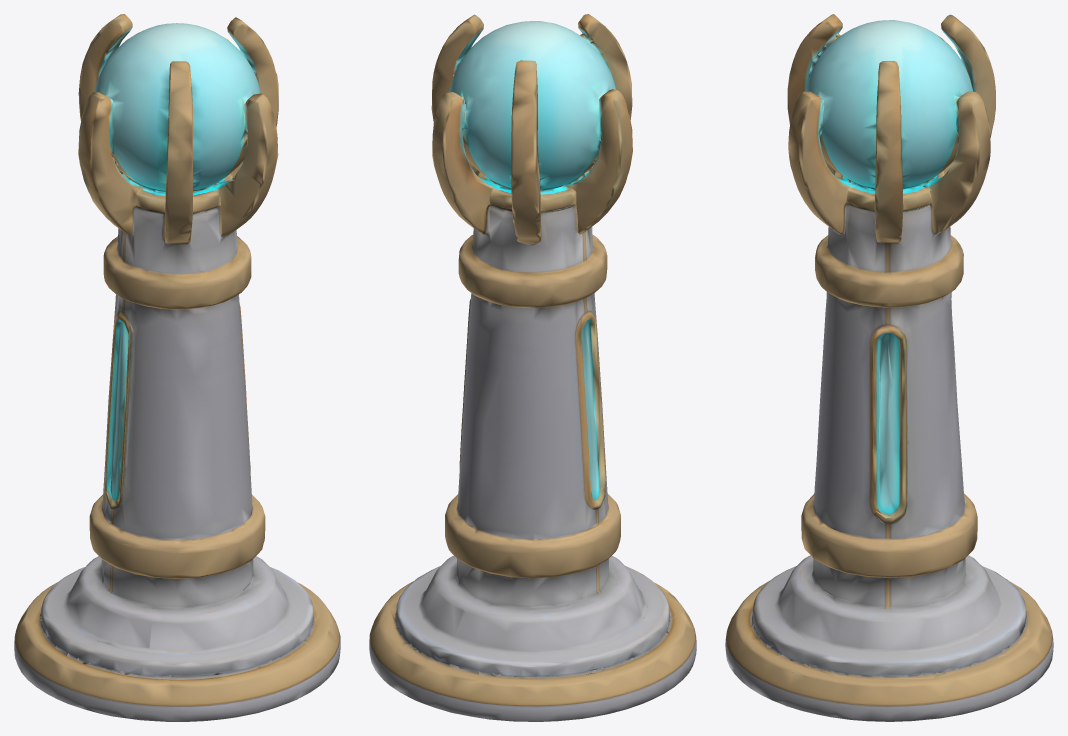
3 renders of one model, left to right at view 1: azimuth 30°, elevation 25°; view 2: azimuth 150°, elevation 25°; view 3: azimuth 270°, elevation 25°, orthographic.
Parts seen in each view (by area): view 1: repaired; view 2: repaired; view 3: repaired.
Boxes of the visible parts, bbox=[...] form: repaired: bbox=[14, 14, 340, 721]; repaired: bbox=[369, 14, 696, 721]; repaired: bbox=[725, 14, 1053, 721].
Size of the model in its own units: 0.475 by 0.9995 by 0.475.
Materials: 1 (1 with a texture image).
